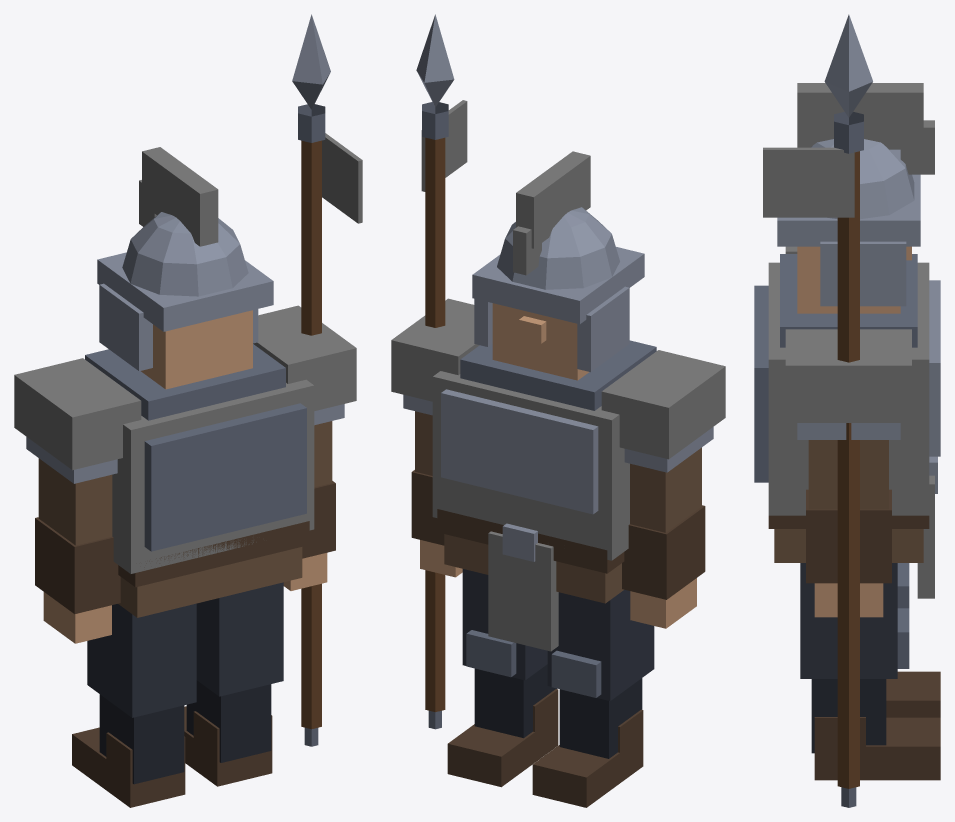
File: infantry-walk-0.obj
3 views of the same model, side by side, from view 1: azimuth 30°, elevation 25°; view 2: azimuth 150°, elevation 25°; view 3: azimuth 270°, elevation 25° (orthographic). The views are drawn at different scales.
Visible parts, largest first — view 1: infantry-walk-0; view 2: infantry-walk-0; view 3: infantry-walk-0.
Boxes of the visible parts, box(x1,y1,x2,y2) form: infantry-walk-0: box(14, 14, 362, 807); infantry-walk-0: box(391, 14, 725, 807); infantry-walk-0: box(754, 14, 940, 807).
Bounding box in the file's own units: 1.25 × 3.06 × 0.65.
